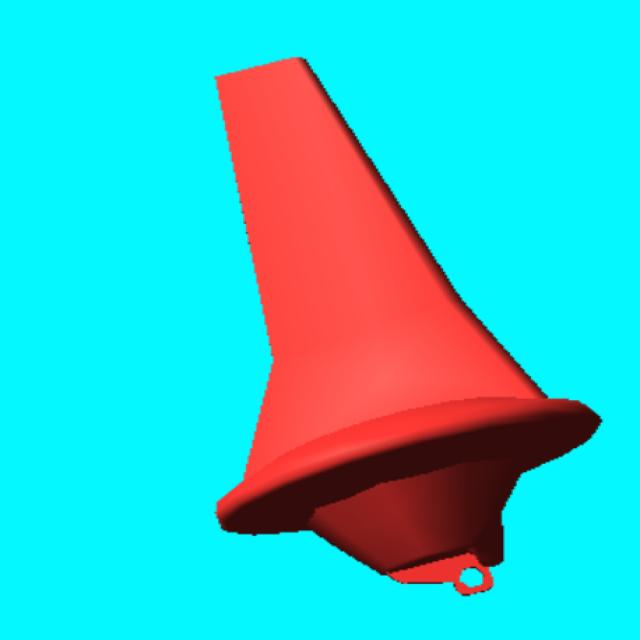RedBuoy: (217, 58, 599, 594)
